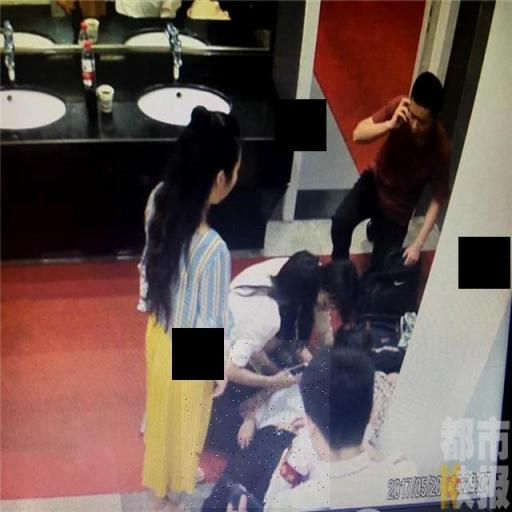Fall: (182, 341, 330, 510)
